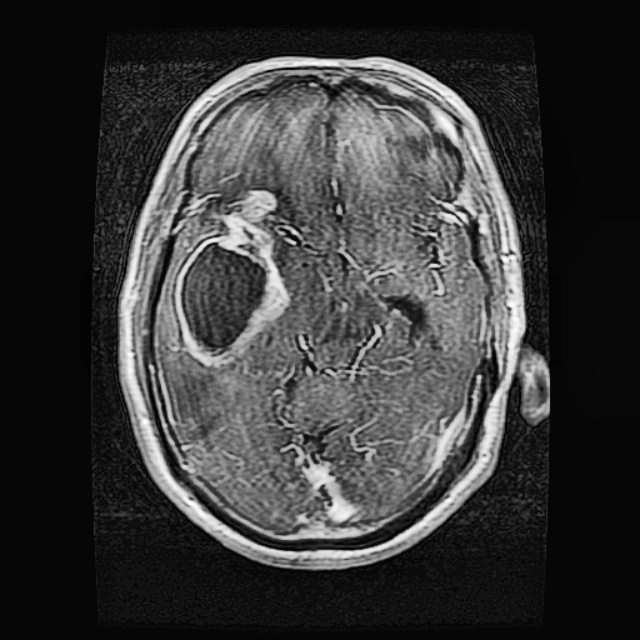Pituitary: (174, 187, 288, 365)
